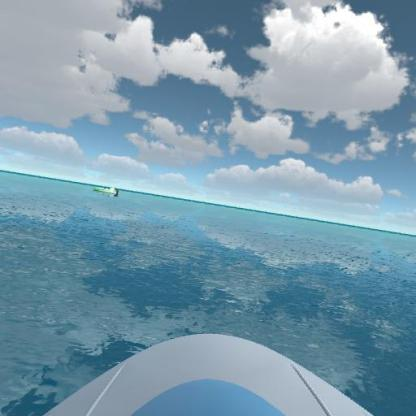usv0: (90, 181, 120, 197)
